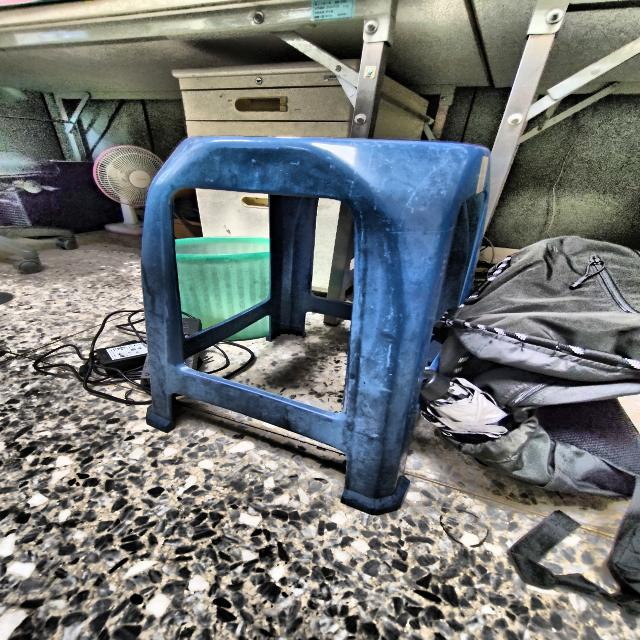cadeira: (130, 107, 488, 517)
